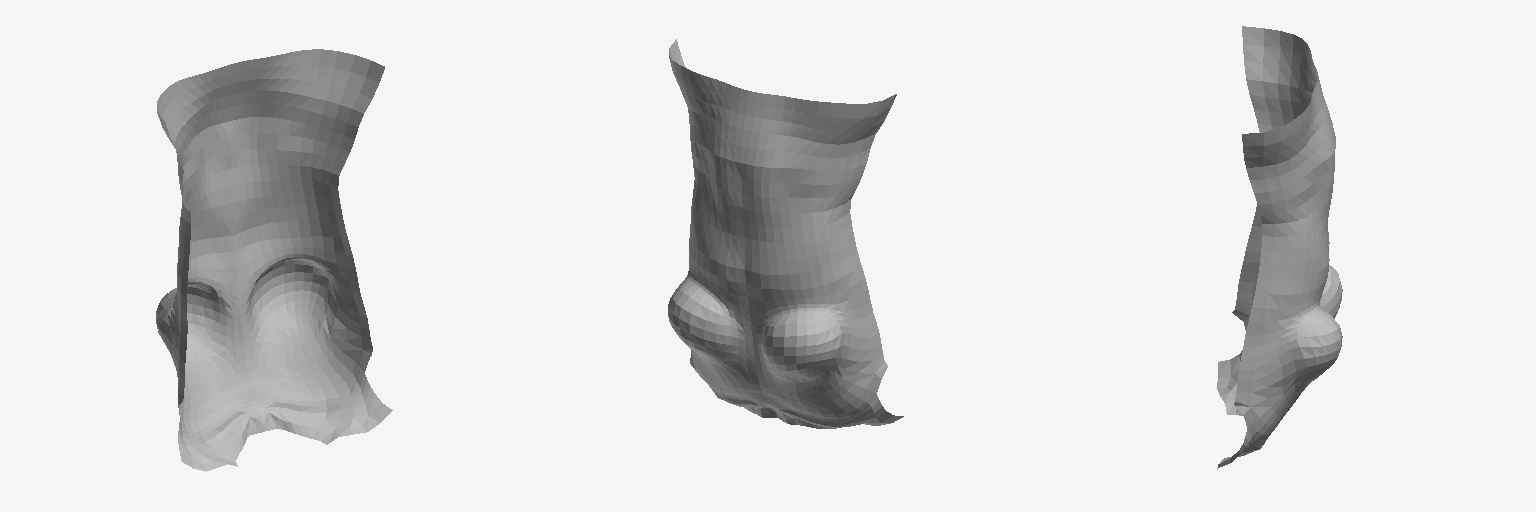
The model's file is Template1030Rot.obj.
3 renders of one model, left to right at view 1: azimuth 30°, elevation 25°; view 2: azimuth 150°, elevation 25°; view 3: azimuth 270°, elevation 25°, orthographic.
Visible parts, largest first — view 1: Femal_Base_Mesh; view 2: Femal_Base_Mesh; view 3: Femal_Base_Mesh.
Boxes of the visible parts, x1,y1,x2,y2 form: Femal_Base_Mesh: [156, 49, 392, 471]; Femal_Base_Mesh: [668, 39, 903, 428]; Femal_Base_Mesh: [1217, 26, 1342, 468].
Size of the model in its own units: 0.3152 by 0.4917 by 0.1547.